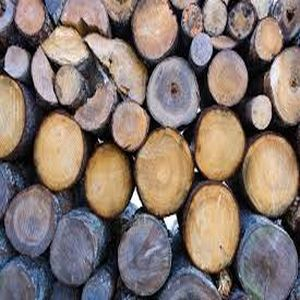log: (180, 180, 242, 276), (132, 127, 194, 217), (238, 131, 299, 221), (85, 29, 148, 111), (236, 221, 300, 297), (191, 105, 247, 185), (120, 214, 174, 296), (79, 142, 136, 217), (34, 110, 86, 192), (144, 57, 201, 130), (3, 184, 55, 262), (49, 215, 96, 289), (265, 44, 300, 129), (132, 1, 178, 65), (73, 64, 115, 133), (204, 47, 249, 108), (109, 99, 153, 152), (1, 76, 27, 165), (39, 26, 92, 67), (28, 46, 59, 106), (60, 1, 113, 33), (252, 16, 284, 64), (53, 64, 84, 106), (228, 2, 257, 45), (14, 1, 48, 36), (3, 44, 31, 81), (202, 1, 229, 38), (189, 33, 213, 74), (249, 93, 270, 133), (178, 4, 204, 36)
